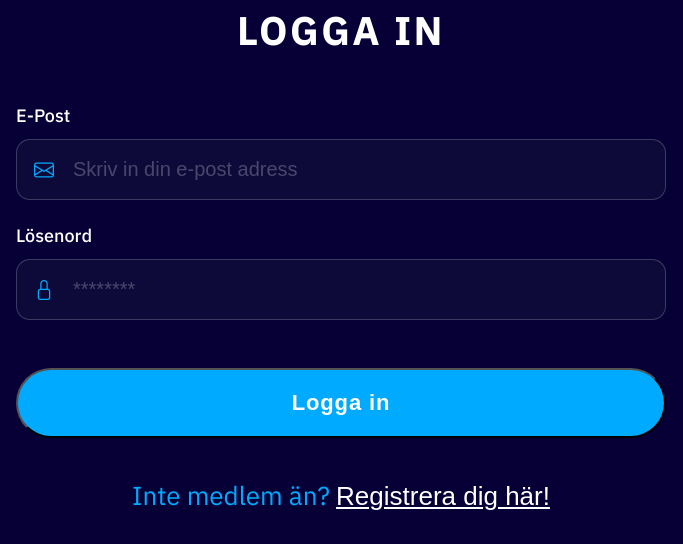
Test: LoginPage › shows validation error for short password
The width and height of the screenshot is (683, 544).
Type "123" into the password field with placeholder "********".
click(341, 290); type("123")  # box left=16, top=259, right=666, bottom=320
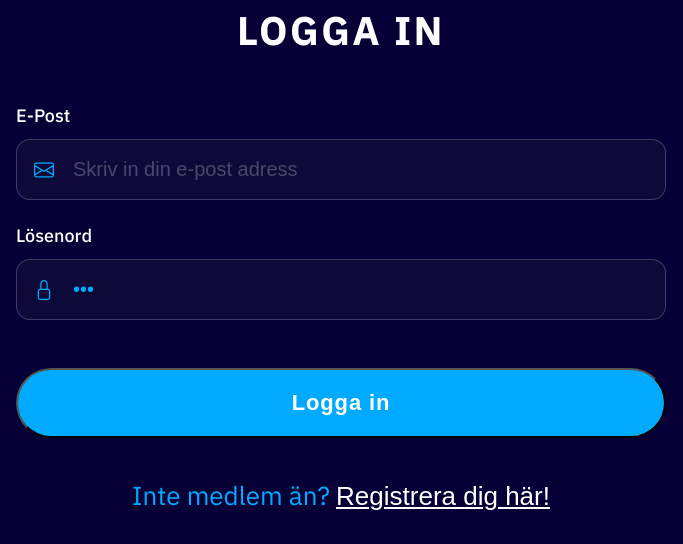
Leave the password field with placeholder "********", box left=16, top=259, right=666, bottom=320
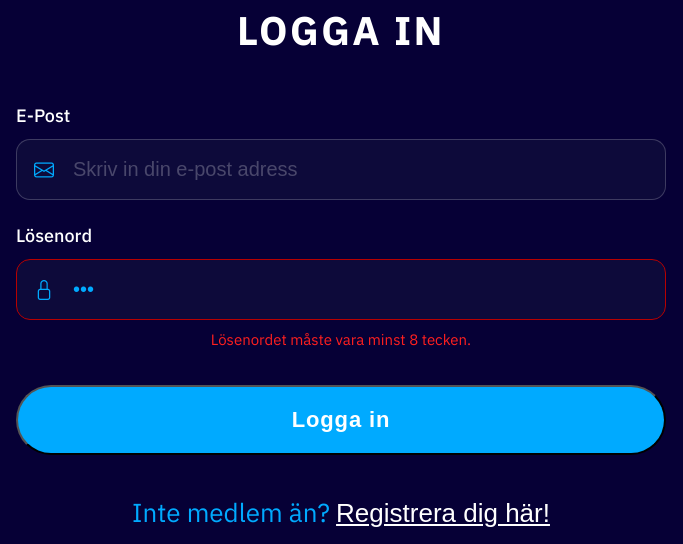
Check: the text "Lösenordet måste vara minst 8 tecken." is shown, box left=211, top=330, right=471, bottom=349
